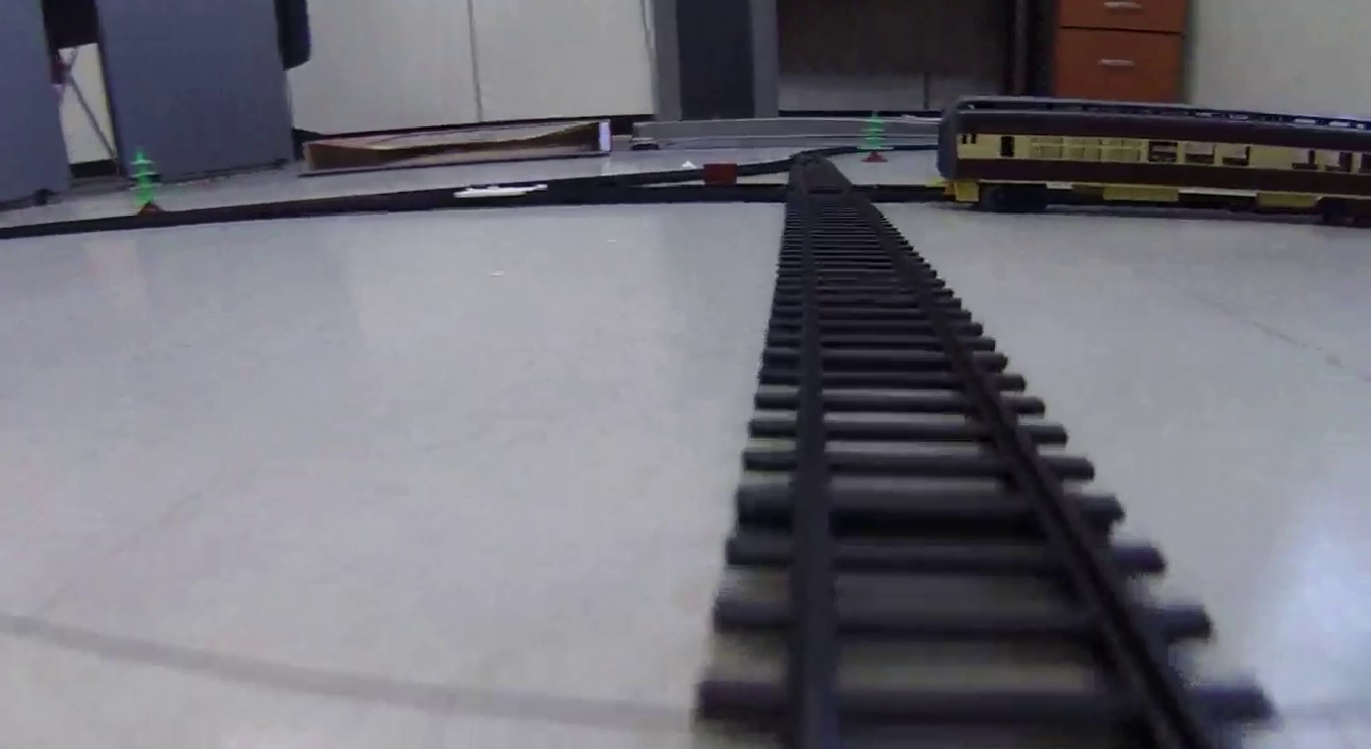tree: (124, 144, 166, 213)
